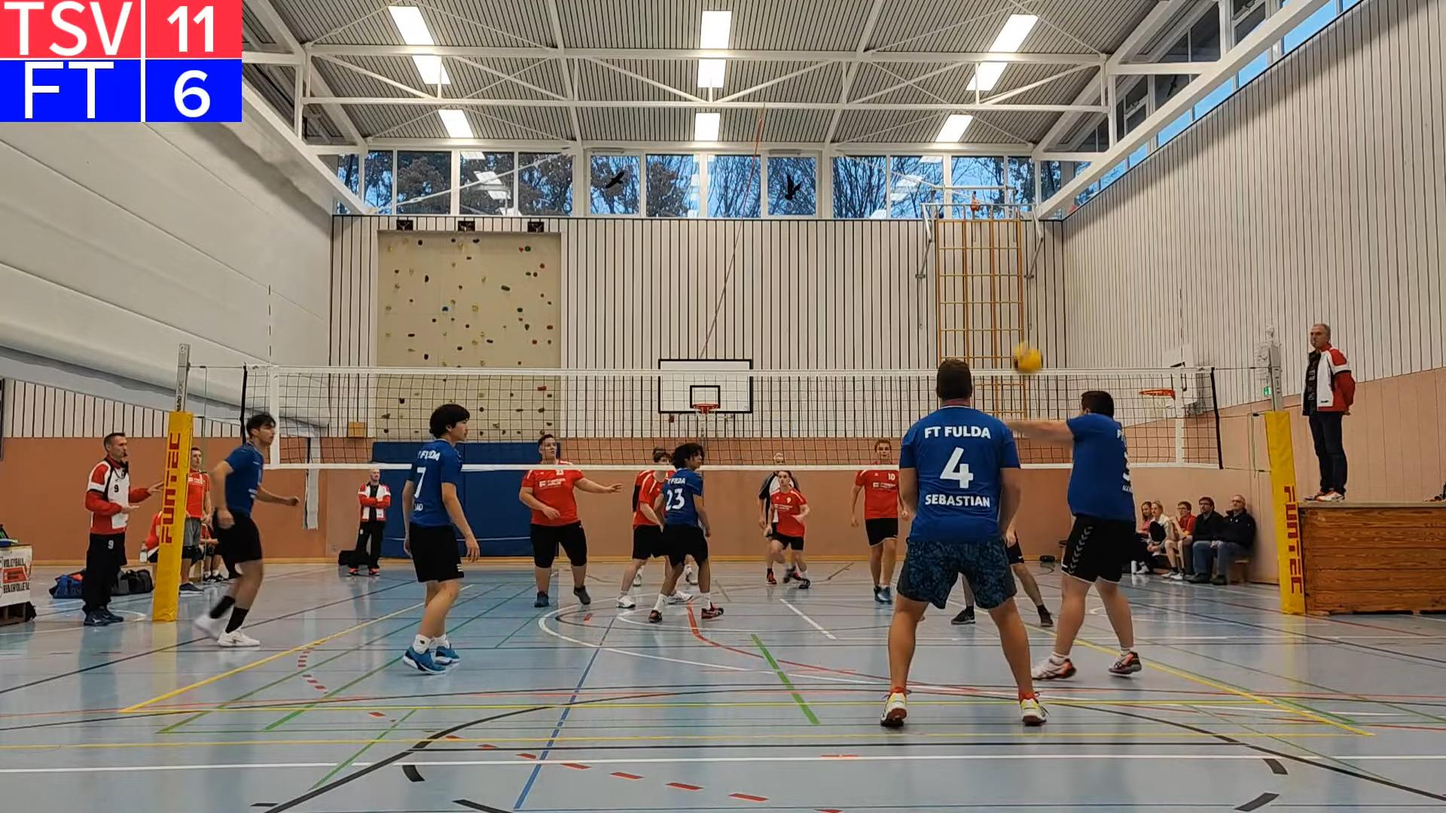ricezione: (981, 388, 1144, 684)
